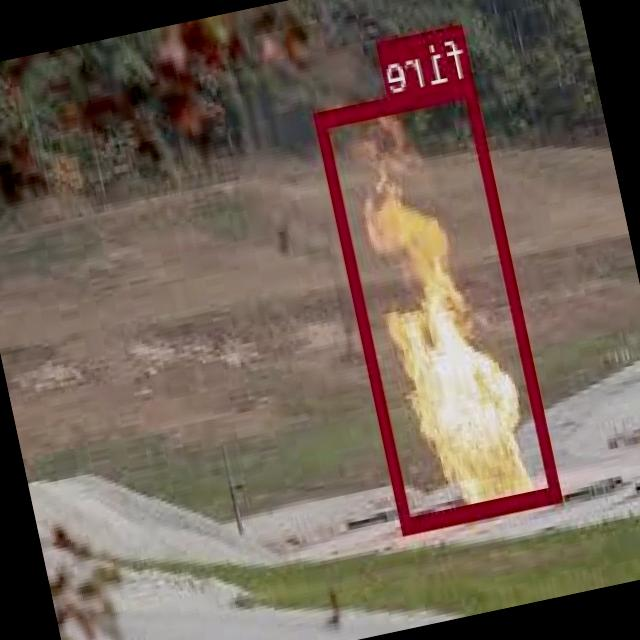fire: (314, 78, 564, 532)
